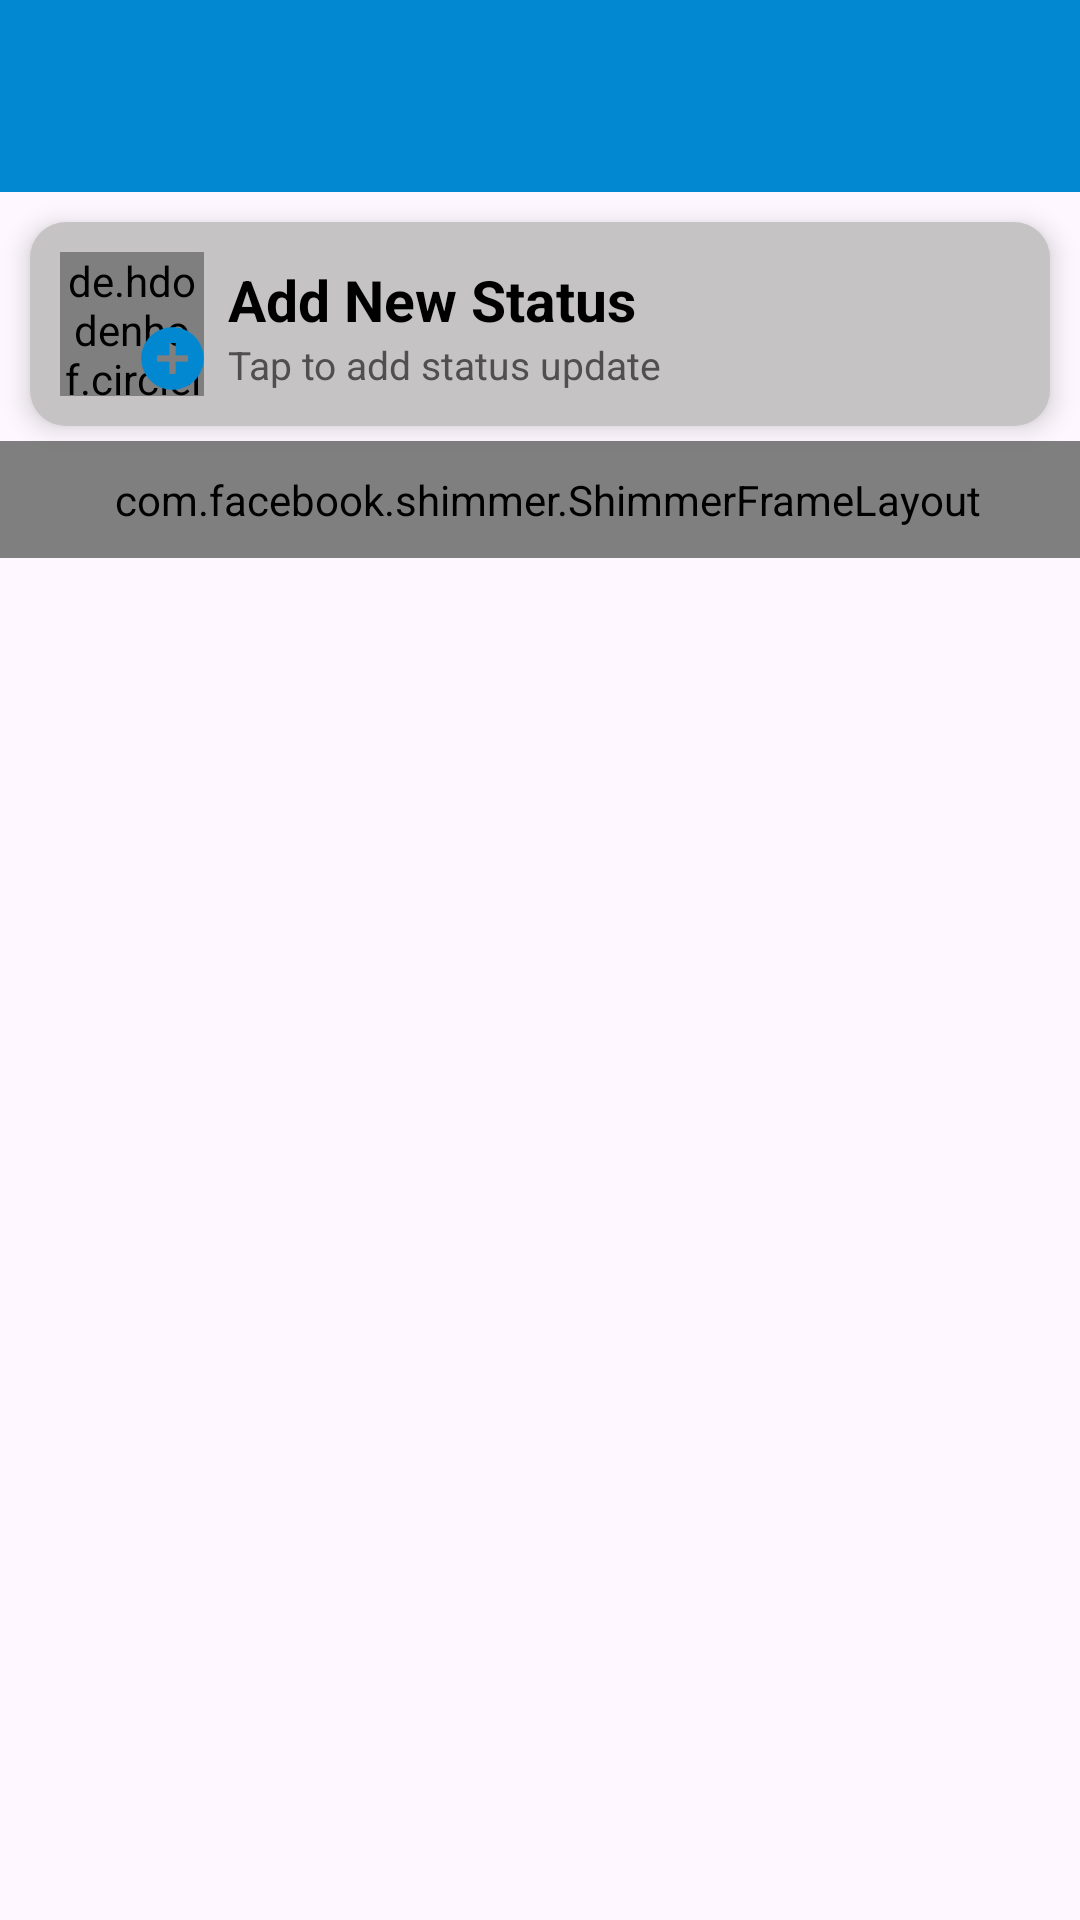

Point at icon controls on the screen. Image size 1080w x 1920h, points as (x,y).
plus: (172,358)
